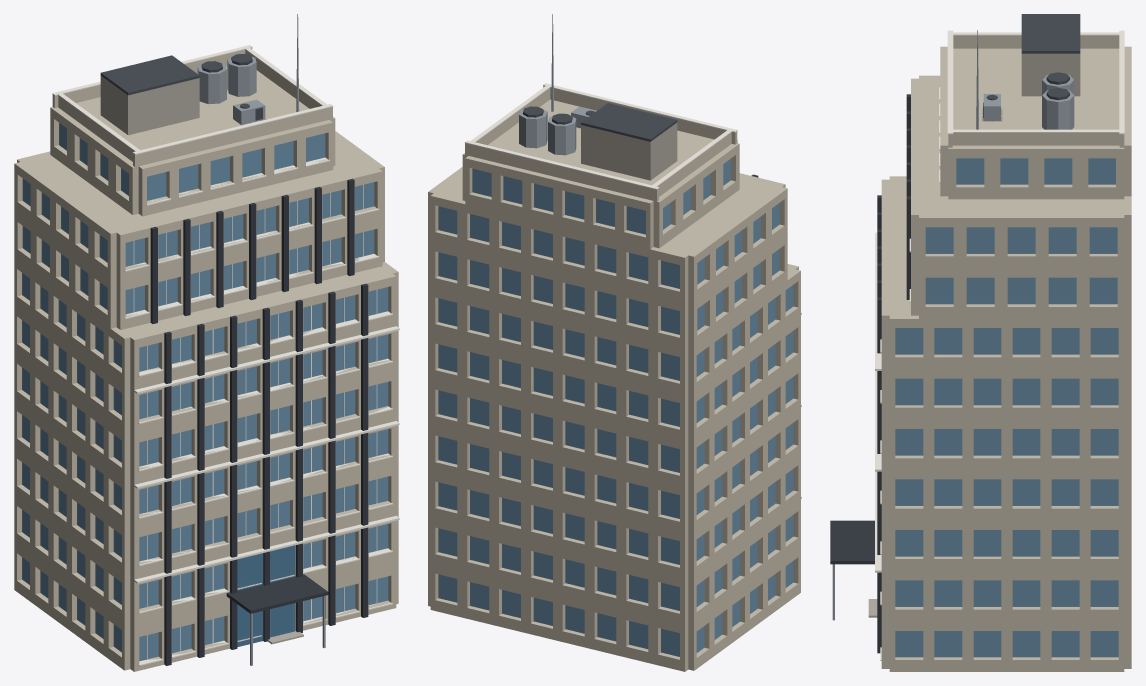
File: BUILDING_09.obj
3 renders of one model, left to right at view 1: azimuth 30°, elevation 25°; view 2: azimuth 150°, elevation 25°; view 3: azimuth 270°, elevation 25°, orthographic. The views are drawn at different scales.
Parts seen in each view (by area): view 1: columns, walls_floor08, walls_floor06, walls_core, walls_floor09, walls_floor05, walls_floor03, walls_floor02, walls_floor04, walls_floor01, walls_floor07, roof (+17 smaller); view 2: walls_floor08, walls_floor06, walls_floor05, walls_floor04, walls_floor02, walls_floor01, walls_floor03, walls_floor09, walls_floor00, walls_floor07, roof, walls_core (+12 smaller); view 3: walls_core, walls_floor06, walls_floor08, walls_floor09, walls_floor02, walls_floor04, walls_floor01, walls_floor03, walls_floor05, roof, walls_floor00, walls_floor07 (+16 smaller).
Part boxes in pixels (x1,y1,x2,y2): columns: [150, 178, 368, 665]; walls_floor08: [14, 131, 384, 291]; walls_floor06: [14, 258, 398, 396]; walls_core: [21, 66, 392, 337]; walls_floor09: [50, 107, 335, 216]; walls_floor05: [14, 314, 398, 443]; walls_floor03: [14, 409, 398, 538]; walls_floor02: [14, 457, 398, 585]; walls_floor04: [14, 362, 398, 490]; walls_floor01: [14, 504, 398, 638]; walls_floor07: [14, 220, 384, 329]; roof: [52, 45, 333, 166]; walls_floor08: [428, 167, 787, 312]; walls_floor06: [428, 264, 800, 404]; walls_floor05: [428, 325, 800, 450]; walls_floor04: [428, 371, 800, 496]; walls_floor02: [428, 463, 800, 588]; walls_floor01: [428, 509, 800, 634]; walls_floor03: [428, 417, 800, 542]; walls_floor09: [462, 140, 739, 249]; walls_floor00: [428, 555, 800, 671]; walls_floor07: [428, 243, 787, 349]; roof: [464, 83, 737, 201]; walls_core: [434, 99, 794, 274]; walls_core: [889, 48, 1124, 315]; walls_floor06: [881, 176, 1131, 378]; walls_floor08: [911, 75, 1131, 277]; walls_floor09: [940, 46, 1131, 199]; walls_floor02: [881, 527, 1131, 580]; walls_floor04: [881, 426, 1131, 479]; walls_floor01: [881, 577, 1131, 632]; walls_floor03: [881, 476, 1131, 529]; walls_floor05: [881, 375, 1131, 428]; roof: [947, 30, 1124, 147]; walls_floor00: [881, 627, 1131, 671]; walls_floor07: [911, 274, 1131, 318].
Size of the model in its own units: 23 by 46.02 by 20.55.
